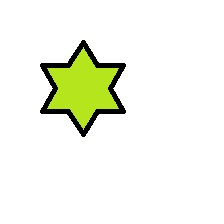star: (41, 41, 125, 137)
